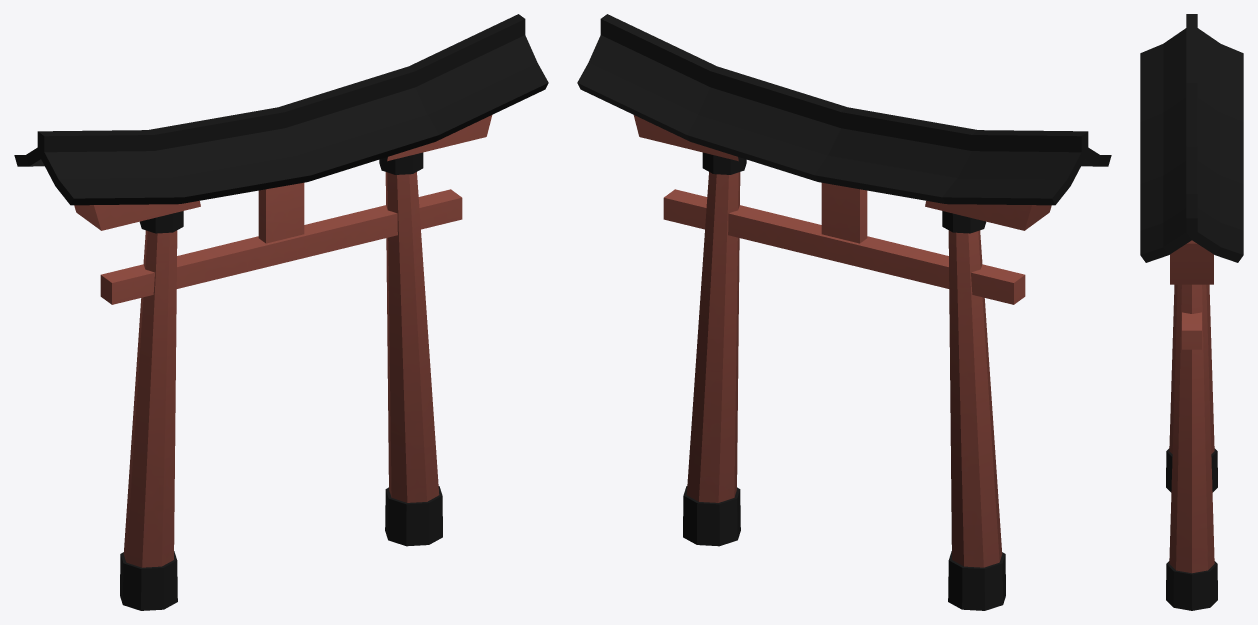
3 renders of one model, left to right at view 1: azimuth 30°, elevation 25°; view 2: azimuth 150°, elevation 25°; view 3: azimuth 270°, elevation 25°, orthographic. The views are drawn at different scales.
Parts seen in each view (by area): view 1: ToriiGate; view 2: ToriiGate; view 3: ToriiGate.
Boxes of the visible parts, bbox=[...] form: ToriiGate: bbox=[14, 14, 548, 610]; ToriiGate: bbox=[577, 14, 1111, 610]; ToriiGate: bbox=[1140, 14, 1243, 610].
Size of the model in its own units: 3.63 by 3.54 by 0.7777.
1 material, 1 textured.
